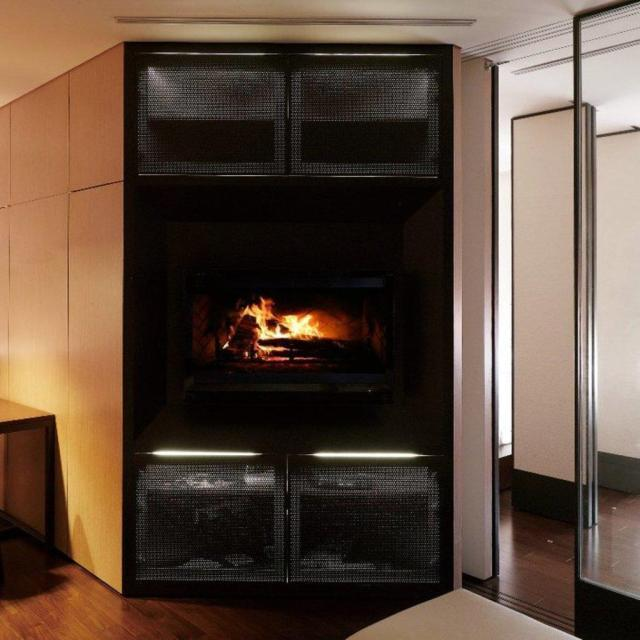Fire: (223, 298, 337, 371)
